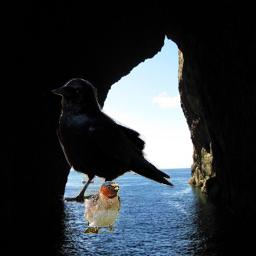Crow: (50, 77, 177, 205)
Swallow: (83, 181, 122, 234)
